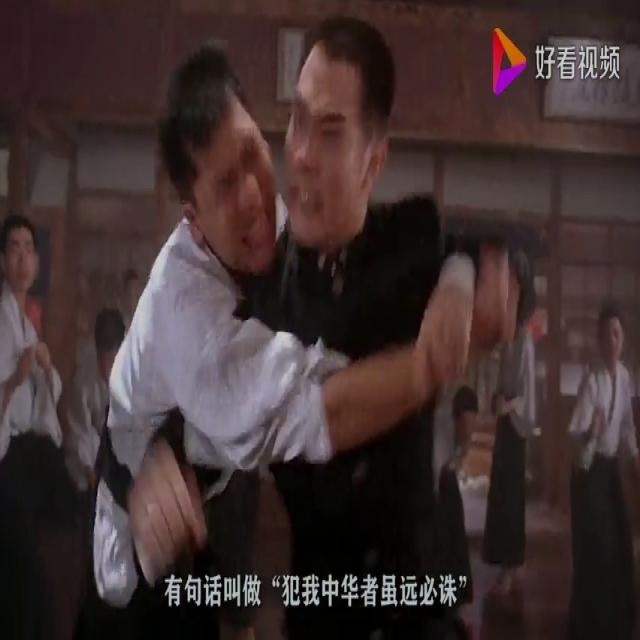fight: (59, 0, 496, 639)
